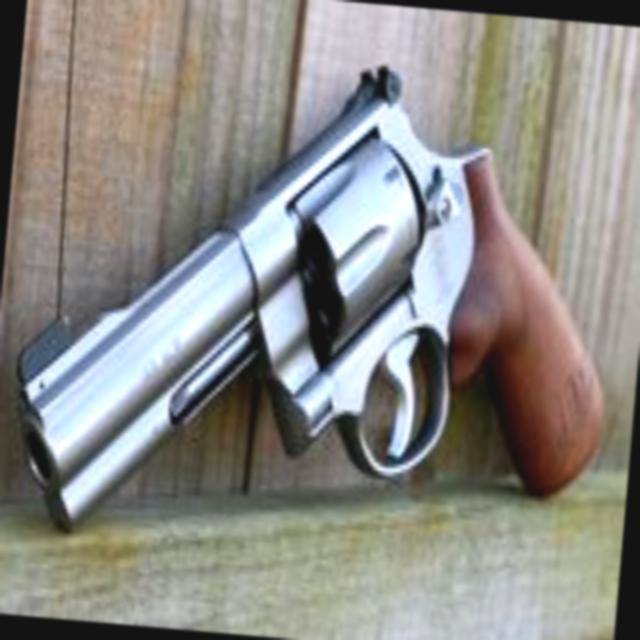revolver: (0, 0, 640, 593)
